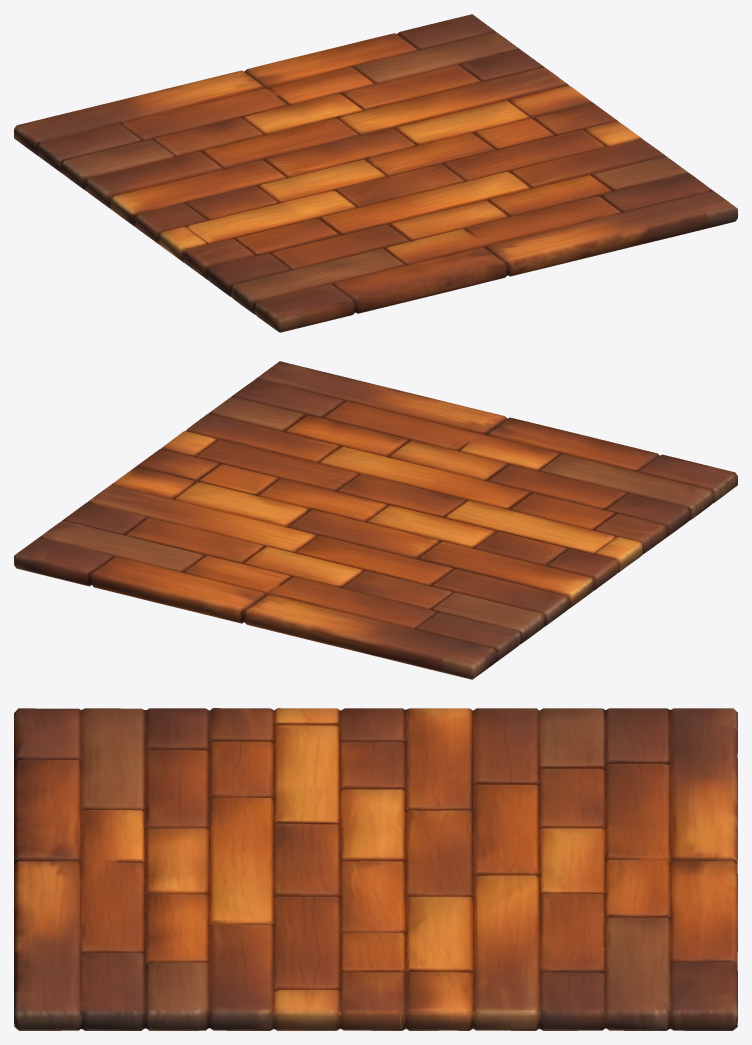
The model's file is zemin.fbx.
The picture shows the model from 3 angles, top to bottom: view 1: azimuth 30°, elevation 25°; view 2: azimuth 150°, elevation 25°; view 3: azimuth 270°, elevation 25°; orthographic projection. The views are drawn at different scales.
Visible parts, largest first — view 1: Mesh_0; view 2: Mesh_0; view 3: Mesh_0.
Boxes of the visible parts, <box> form: Mesh_0: <box>14,14,737,332</box>; Mesh_0: <box>14,361,737,679</box>; Mesh_0: <box>14,708,737,1030</box>.
Size of the model in its own units: 191 by 6.08 by 191.
1 material, 1 textured.
